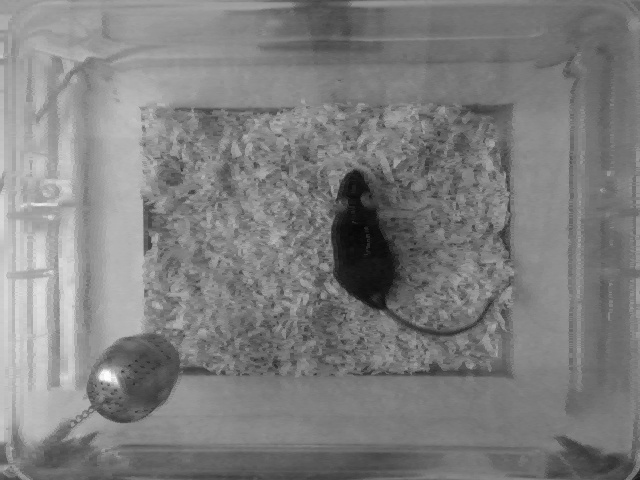mice: (330, 167, 504, 336)
